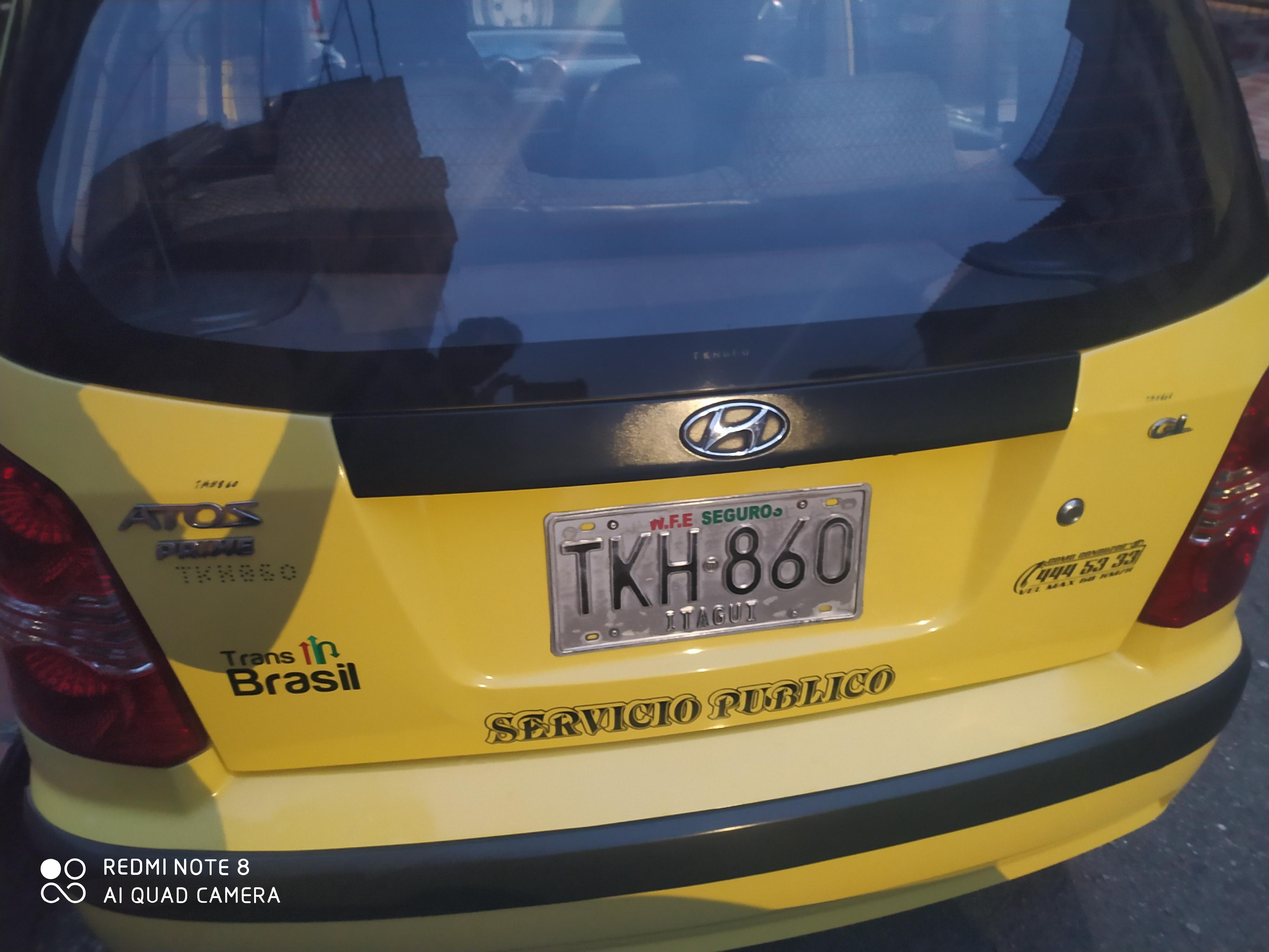placa: (527, 483, 899, 657)
